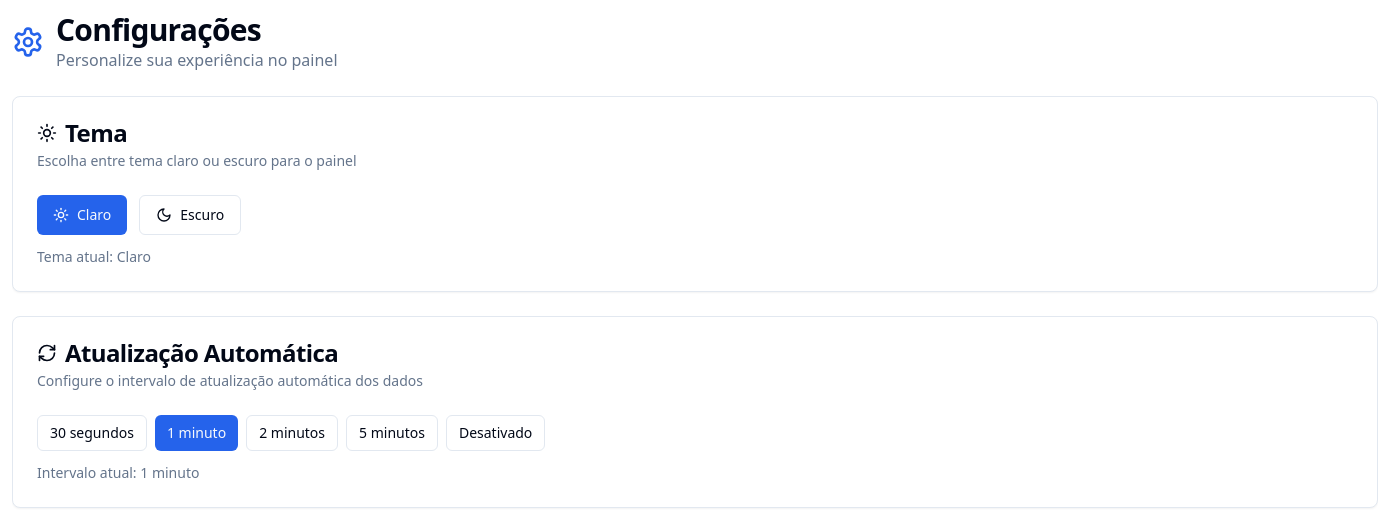
Test: Settings Page › Auto-Refresh Settings Card › should update refresh interval when button is clicked
Step 1. Click the button with test id "refresh-interval-30" → [92, 433], box [37,415,147,451]
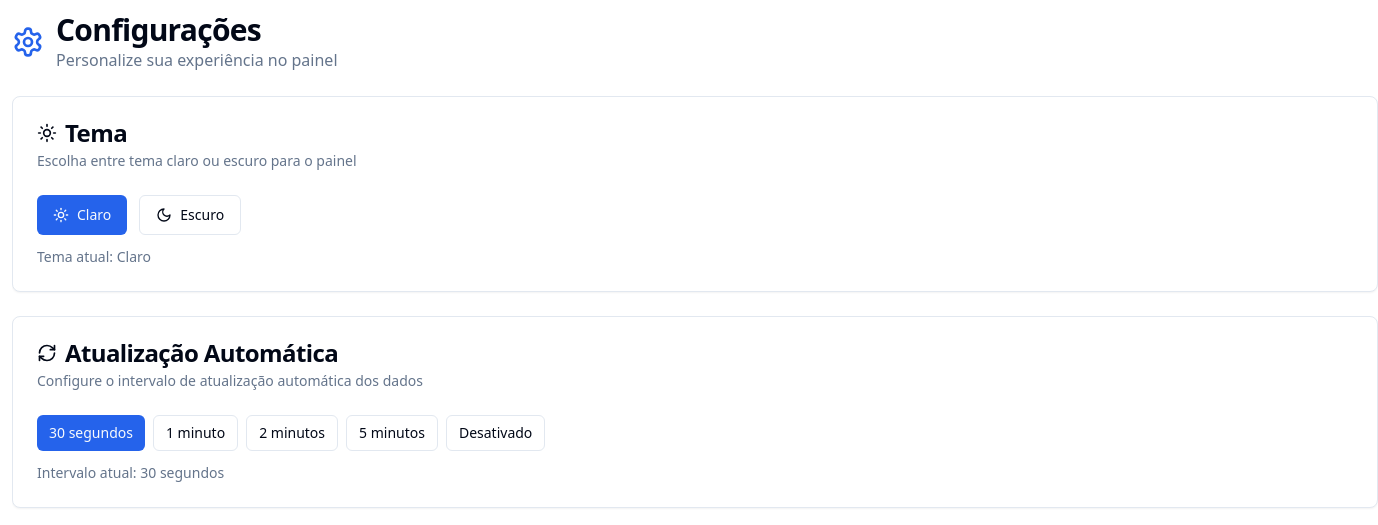
Expected: the text with test id "current-refresh-interval" reads "30 segundos", [140,463,224,482]
